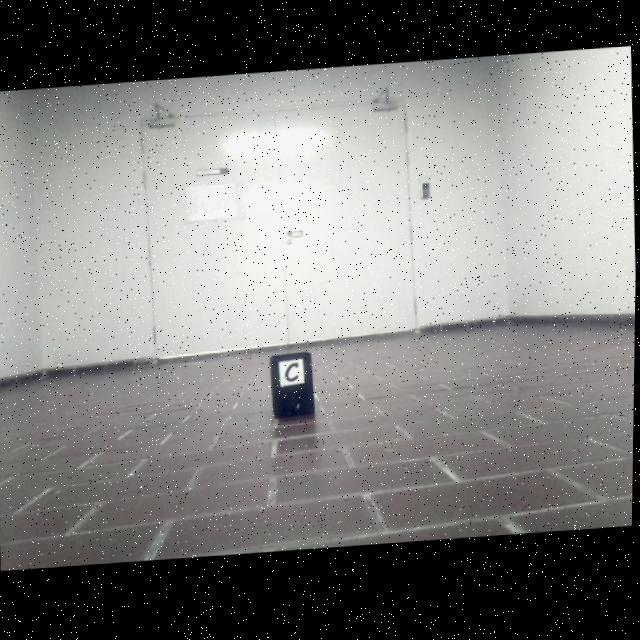C: (285, 365, 300, 384)
